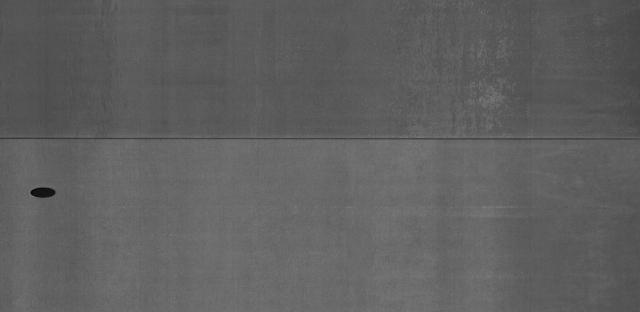punching_hole: (26, 182, 62, 201)
welding_line: (2, 132, 638, 147)
